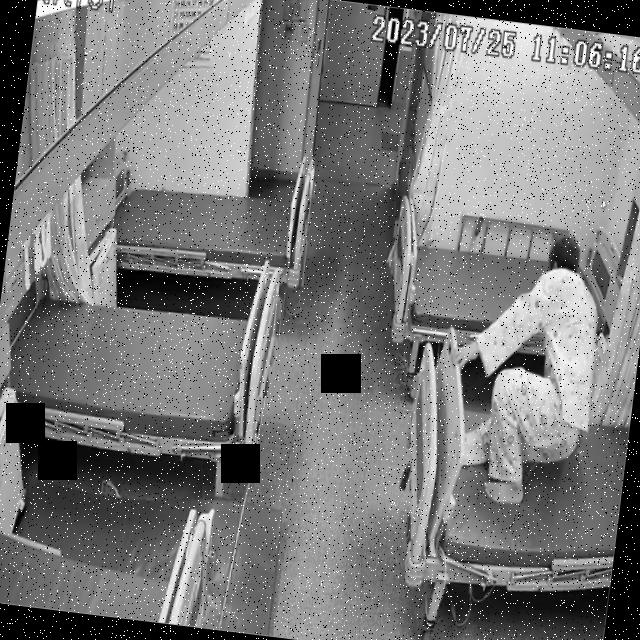bed: (389, 336, 637, 606), (0, 280, 278, 463), (380, 221, 627, 368), (110, 168, 310, 288)
danger: (422, 233, 607, 510)
patient: (428, 231, 605, 507)
